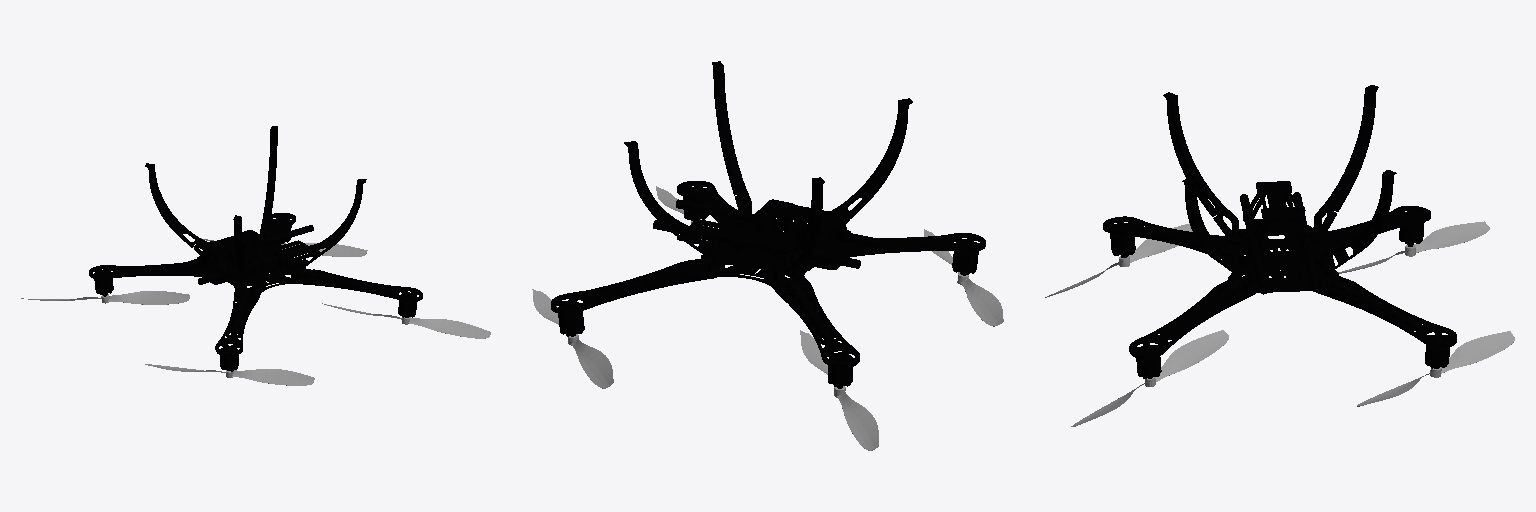
The robot description file, URDF, robot "Assem1":
<?xml version="1.0" encoding="utf-8"?>
<!-- This URDF was automatically created by SolidWorks to URDF Exporter! Originally created by [author] ([email redacted]) 
     Commit Version: 1.6.0-4-g7f85cfe  Build Version: 1.6.7995.38578
     For more information, please see http://wiki.ros.org/sw_urdf_exporter -->
<robot
  name="Assem1">
  <link
    name="base_link">
    <inertial>
      <origin
        xyz="0.00170644441190401 -0.00010951248939392 0.020137507133009"
        rpy="0 0 0" />
      <mass
        value="0.287718433342603" />
      <inertia
        ixx="0.00043625048274275"
        ixy="-1.0528143175783E-05"
        ixz="-6.62216645028294E-11"
        iyy="0.000552638256745813"
        iyz="-4.76560246682176E-11"
        izz="0.000733037492748617" />
    </inertial>
    <visual>
      <origin
        xyz="0 0 0"
        rpy="0 0 0" />
      <geometry>
        <mesh
          filename="package://Assem1/meshes/base_link.STL" />
      </geometry>
      <material
        name="">
        <color
          rgba="0.0196078431372549 0.0196078431372549 0.0196078431372549 1" />
      </material>
    </visual>
    <collision>
      <origin
        xyz="0 0 0"
        rpy="0 0 0" />
      <geometry>
        <mesh
          filename="package://Assem1/meshes/base_link.STL" />
      </geometry>
    </collision>
  </link>
  <link
    name="B_prop1_Link">
    <inertial>
      <origin
        xyz="7.31459151581682E-07 -2.01874710653582E-06 -0.00617262757614656"
        rpy="0 0 0" />
      <mass
        value="0.00470560400208223" />
      <inertia
        ixx="1.85522428966344E-05"
        ixy="7.79017193825592E-06"
        ixz="-3.58835413480609E-12"
        iyy="3.4554203858861E-06"
        iyz="1.3959908485915E-11"
        izz="2.19436691246909E-05" />
    </inertial>
    <visual>
      <origin
        xyz="0 0 0"
        rpy="0 0 0" />
      <geometry>
        <mesh
          filename="package://Assem1/meshes/B_prop1_Link.STL" />
      </geometry>
      <material
        name="">
        <color
          rgba="0.627450980392157 0.627450980392157 0.627450980392157 1" />
      </material>
    </visual>
    <collision>
      <origin
        xyz="0 0 0"
        rpy="0 0 0" />
      <geometry>
        <mesh
          filename="package://Assem1/meshes/B_prop1_Link.STL" />
      </geometry>
    </collision>
  </link>
  <joint
    name="Blue_prop1"
    type="continuous">
    <origin
      xyz="-0.17257 0.14811 -0.052109"
      rpy="-0.094849 -0.044451 0.43793" />
    <parent
      link="base_link" />
    <child
      link="B_prop1_Link" />
    <axis
      xyz="0 0 1" />
    <limit
      lower="-3.14"
      upper="3.14"
      effort="10"
      velocity="900" />
    <dynamics
      damping="0.001"
      friction="0.001" />
  </joint>
  <link
    name="B_prop2_Link">
    <inertial>
      <origin
        xyz="1.83252260643751E-07 -1.98326826152118E-06 -0.00617266232573843"
        rpy="0 0 0" />
      <mass
        value="0.00470560155567302" />
      <inertia
        ixx="2.16079875173634E-05"
        ixy="2.28377794244799E-06"
        ixz="-1.19218056547997E-12"
        iyy="3.9960494981713E-07"
        iyz="4.46537996457783E-12"
        izz="2.19435983745731E-05" />
    </inertial>
    <visual>
      <origin
        xyz="0 0 0"
        rpy="0 0 0" />
      <geometry>
        <mesh
          filename="package://Assem1/meshes/B_prop2_Link.STL" />
      </geometry>
      <material
        name="">
        <color
          rgba="0.627450980392157 0.627450980392157 0.627450980392157 1" />
      </material>
    </visual>
    <collision>
      <origin
        xyz="0 0 0"
        rpy="0 0 0" />
      <geometry>
        <mesh
          filename="package://Assem1/meshes/B_prop2_Link.STL" />
      </geometry>
    </collision>
  </link>
  <joint
    name="Blue_prop2"
    type="continuous">
    <origin
      xyz="-0.1434 -0.17706 -0.051992"
      rpy="0.015067 -0.10363 0.73026" />
    <parent
      link="base_link" />
    <child
      link="B_prop2_Link" />
    <axis
      xyz="0 0 1" />
    <limit
      lower="-3.14"
      upper="3.14"
      effort="10"
      velocity="900" />
    <dynamics
      damping="0.01"
      friction="0.01" />
  </joint>
  <link
    name="W_prop3_Link">
    <inertial>
      <origin
        xyz="-1.28649024433436E-07 -2.19146189972541E-07 -0.00617277347433426"
        rpy="0 0 0" />
      <mass
        value="0.00470544867986301" />
      <inertia
        ixx="2.16068682565638E-05"
        ixy="2.28259903929045E-06"
        ixz="2.48950874223512E-12"
        iyy="3.99361389385897E-07"
        iyz="4.7092728291607E-12"
        izz="2.19422332847507E-05" />
    </inertial>
    <visual>
      <origin
        xyz="0 0 0"
        rpy="0 0 0" />
      <geometry>
        <mesh
          filename="package://Assem1/meshes/W_prop3_Link.STL" />
      </geometry>
      <material
        name="">
        <color
          rgba="0.627450980392157 0.627450980392157 0.627450980392157 1" />
      </material>
    </visual>
    <collision>
      <origin
        xyz="0 0 0"
        rpy="0 0 0" />
      <geometry>
        <mesh
          filename="package://Assem1/meshes/W_prop3_Link.STL" />
      </geometry>
    </collision>
  </link>
  <joint
    name="White_prop3"
    type="continuous">
    <origin
      xyz="0.1819 -0.14798 -0.050454"
      rpy="0.10376 0.014184 0.73953" />
    <parent
      link="base_link" />
    <child
      link="W_prop3_Link" />
    <axis
      xyz="0 0 1" />
    <limit
      lower="-3.14"
      upper="3.14"
      effort="10"
      velocity="900" />
    <dynamics
      damping="0.01"
      friction="0.01" />
  </joint>
  <link
    name="W_prop4_Link">
    <inertial>
      <origin
        xyz="-1.90927498158744E-07 -3.74112121726E-07 -0.00617235089568641"
        rpy="0 0 0" />
      <mass
        value="0.00470577490170128" />
      <inertia
        ixx="2.15662250214858E-05"
        ixy="2.47775284354927E-06"
        ixz="6.35312790556522E-12"
        iyy="4.43219552098724E-07"
        iyz="2.35523113706649E-11"
        izz="2.19454547031465E-05" />
    </inertial>
    <visual>
      <origin
        xyz="0 0 0"
        rpy="0 0 0" />
      <geometry>
        <mesh
          filename="package://Assem1/meshes/W_prop4_Link.STL" />
      </geometry>
      <material
        name="">
        <color
          rgba="0.627450980392157 0.627450980392157 0.627450980392157 1" />
      </material>
    </visual>
    <collision>
      <origin
        xyz="0 0 0"
        rpy="0 0 0" />
      <geometry>
        <mesh
          filename="package://Assem1/meshes/W_prop4_Link.STL" />
      </geometry>
    </collision>
  </link>
  <joint
    name="White_prop4"
    type="continuous">
    <origin
      xyz="0.15258 0.17729 -0.052087"
      rpy="-0.015288 0.1036 0.72812" />
    <parent
      link="base_link" />
    <child
      link="W_prop4_Link" />
    <axis
      xyz="0 0 1" />
    <limit
      lower="-3.14"
      upper="3.14"
      effort="10"
      velocity="900" />
    <dynamics
      damping="0.01"
      friction="0.01" />
  </joint>
</robot>

--- Facts derived from the render (not from the file) ---
The picture shows the robot from 3 angles, left to right: view 1: azimuth 30°, elevation 25°; view 2: azimuth 150°, elevation 25°; view 3: azimuth 270°, elevation 25°; orthographic projection.
Robot: Assem1 — 5 links, 4 joints (4 continuous); root link base_link; default pose: every joint at zero.
Visible links, largest first — view 1: base_link, B_prop2_Link, W_prop3_Link, B_prop1_Link; view 2: base_link, B_prop1_Link, W_prop4_Link, B_prop2_Link; view 3: base_link, W_prop3_Link, W_prop4_Link, B_prop1_Link, B_prop2_Link.
Boxes of the visible links, x1=… form: base_link: x1=89, y1=126, x2=422, y2=371; B_prop2_Link: x1=145, y1=364, x2=314, y2=385; W_prop3_Link: x1=322, y1=303, x2=490, y2=338; B_prop1_Link: x1=21, y1=291, x2=189, y2=304; base_link: x1=551, y1=61, x2=985, y2=388; B_prop1_Link: x1=800, y1=330, x2=878, y2=450; W_prop4_Link: x1=532, y1=289, x2=613, y2=388; B_prop2_Link: x1=924, y1=229, x2=1003, y2=326; base_link: x1=1103, y1=85, x2=1456, y2=378; W_prop3_Link: x1=1071, y1=330, x2=1228, y2=426; W_prop4_Link: x1=1357, y1=331, x2=1514, y2=406; B_prop1_Link: x1=1338, y1=221, x2=1489, y2=273; B_prop2_Link: x1=1045, y1=223, x2=1192, y2=297.
Bounding box of the posed robot: 0.5538 × 0.5349 × 0.2445 m (x, y, z).
5 mesh visuals loaded from 5 distinct referenced files (5 binary STL).
